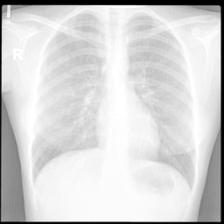tuberculosis: (28, 7, 200, 198)
